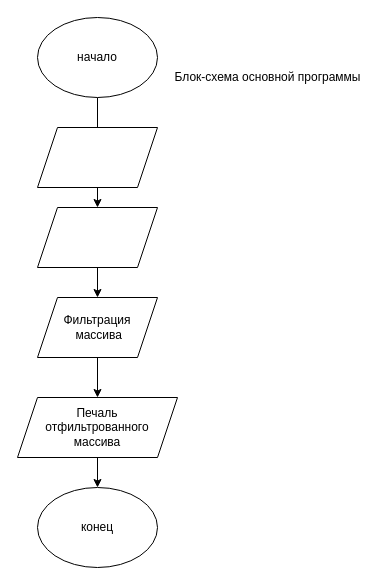
This 390x585 diagram has some shape labels left out. The shapes that lost their labels are listed below. From the top down, each one's centre as x and y in pixels, then its label:
[97,157]: Заполнение исходного массива
[97,237]: Печать исходного массива
